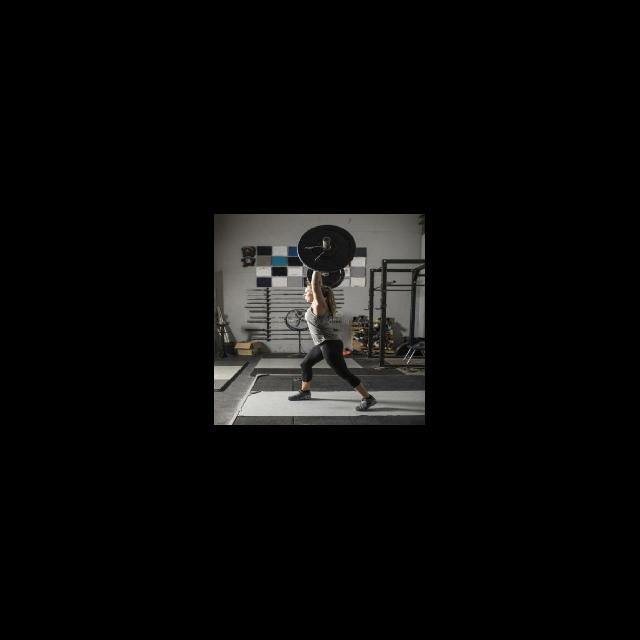barbell: (296, 223, 360, 273)
